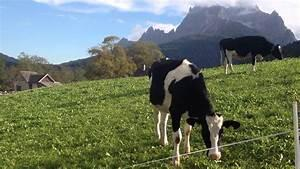cow: (145, 56, 240, 166), (218, 35, 282, 74)
